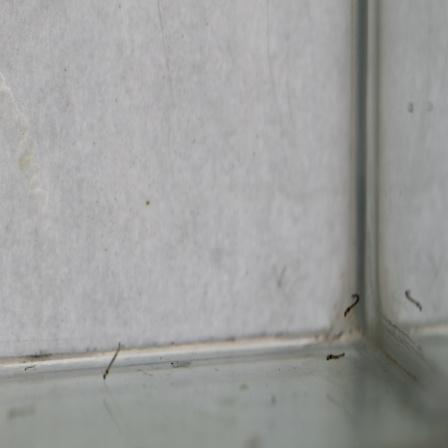Jentik-Nyamuk: (102, 339, 125, 386), (339, 289, 362, 320), (323, 346, 349, 366)
